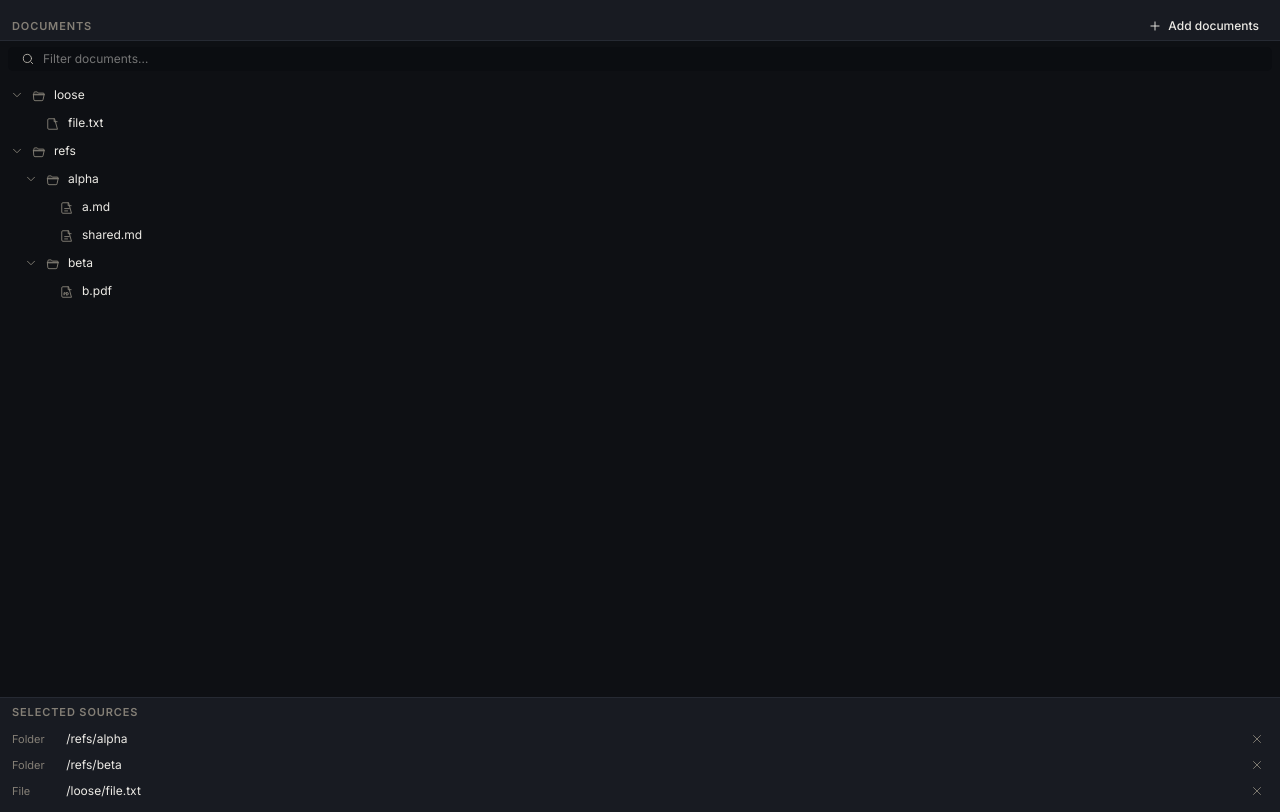
Test: DPN-FR-ZMBQ: the Add documents choice › DPN-FR-ZMBQ: opens a floating choice with the two entries Files and Folder
Check: the element showing "loose file.txt refs alpha a.md shared.md beta b.pdf" is shown, box [10,87,142,299]
What coordinates should you click on to do the following:
click the button "Add documents"
I would click on:
 (1204, 26)
Its box is [1139,14,1268,38].
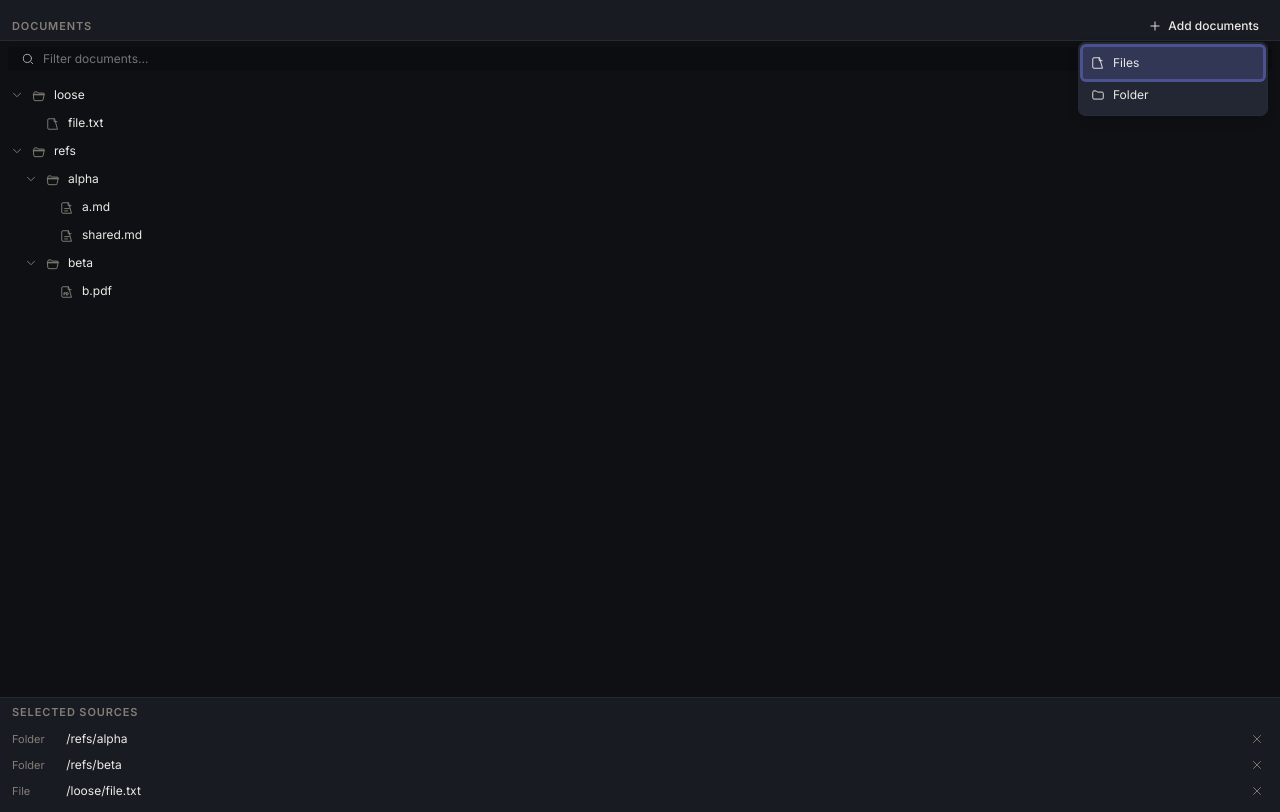
Check: the menu items read "Files", "Folder", in this order, box [1083,47,1263,79]; [1083,79,1263,111]
